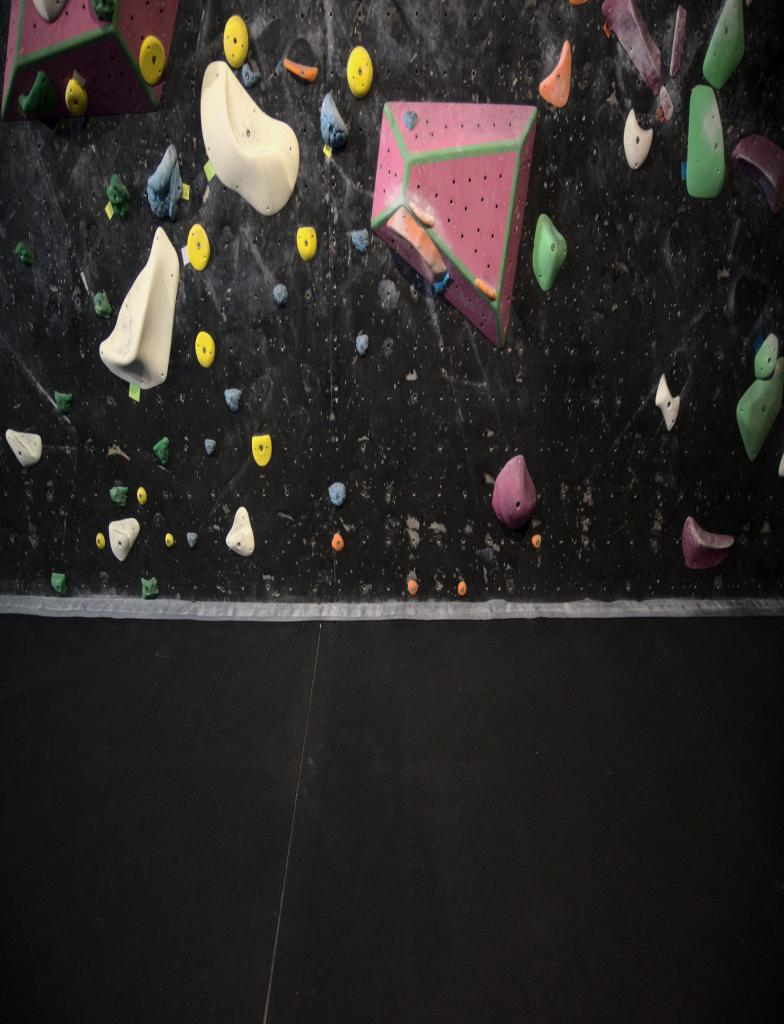crimp: (540, 41, 571, 108), (624, 109, 653, 169), (656, 375, 680, 431), (139, 35, 165, 85), (187, 224, 210, 270), (284, 58, 318, 81), (195, 331, 215, 367), (297, 226, 316, 260), (410, 201, 435, 226), (659, 85, 673, 120), (403, 109, 418, 130)
jib: (252, 435, 271, 465), (273, 283, 288, 308), (137, 487, 147, 505), (205, 439, 216, 455), (96, 532, 105, 549), (532, 535, 542, 549), (408, 580, 417, 595), (458, 580, 466, 596), (165, 533, 174, 547)
jug: (148, 144, 182, 221), (19, 71, 57, 116), (321, 93, 348, 148), (107, 174, 129, 218), (66, 77, 87, 115), (351, 229, 370, 254), (94, 292, 111, 319), (242, 62, 260, 87), (225, 388, 241, 412), (55, 392, 72, 413), (356, 333, 368, 355)
ledge: (201, 61, 299, 215), (100, 228, 179, 388), (602, 0, 661, 93), (703, 0, 744, 88), (532, 214, 566, 291)
sidepull: (687, 85, 724, 197), (669, 6, 686, 76)
sloper: (493, 455, 536, 528), (347, 47, 372, 97), (224, 15, 248, 67)
tape: (204, 160, 215, 181), (129, 383, 140, 402), (181, 246, 190, 265), (323, 143, 332, 159), (105, 202, 113, 219), (182, 184, 190, 200), (604, 20, 611, 38), (681, 161, 687, 179), (658, 107, 665, 122)
undercling: (755, 334, 779, 379)
volume: (371, 102, 537, 347), (0, 0, 179, 120)
